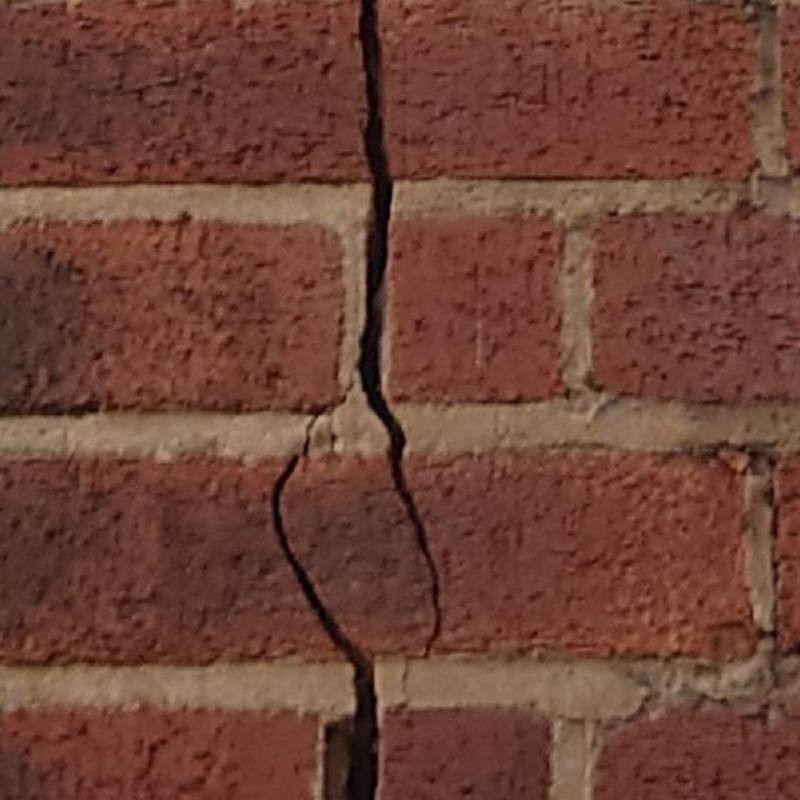pothole: (358, 0, 441, 646), (273, 414, 378, 800)
